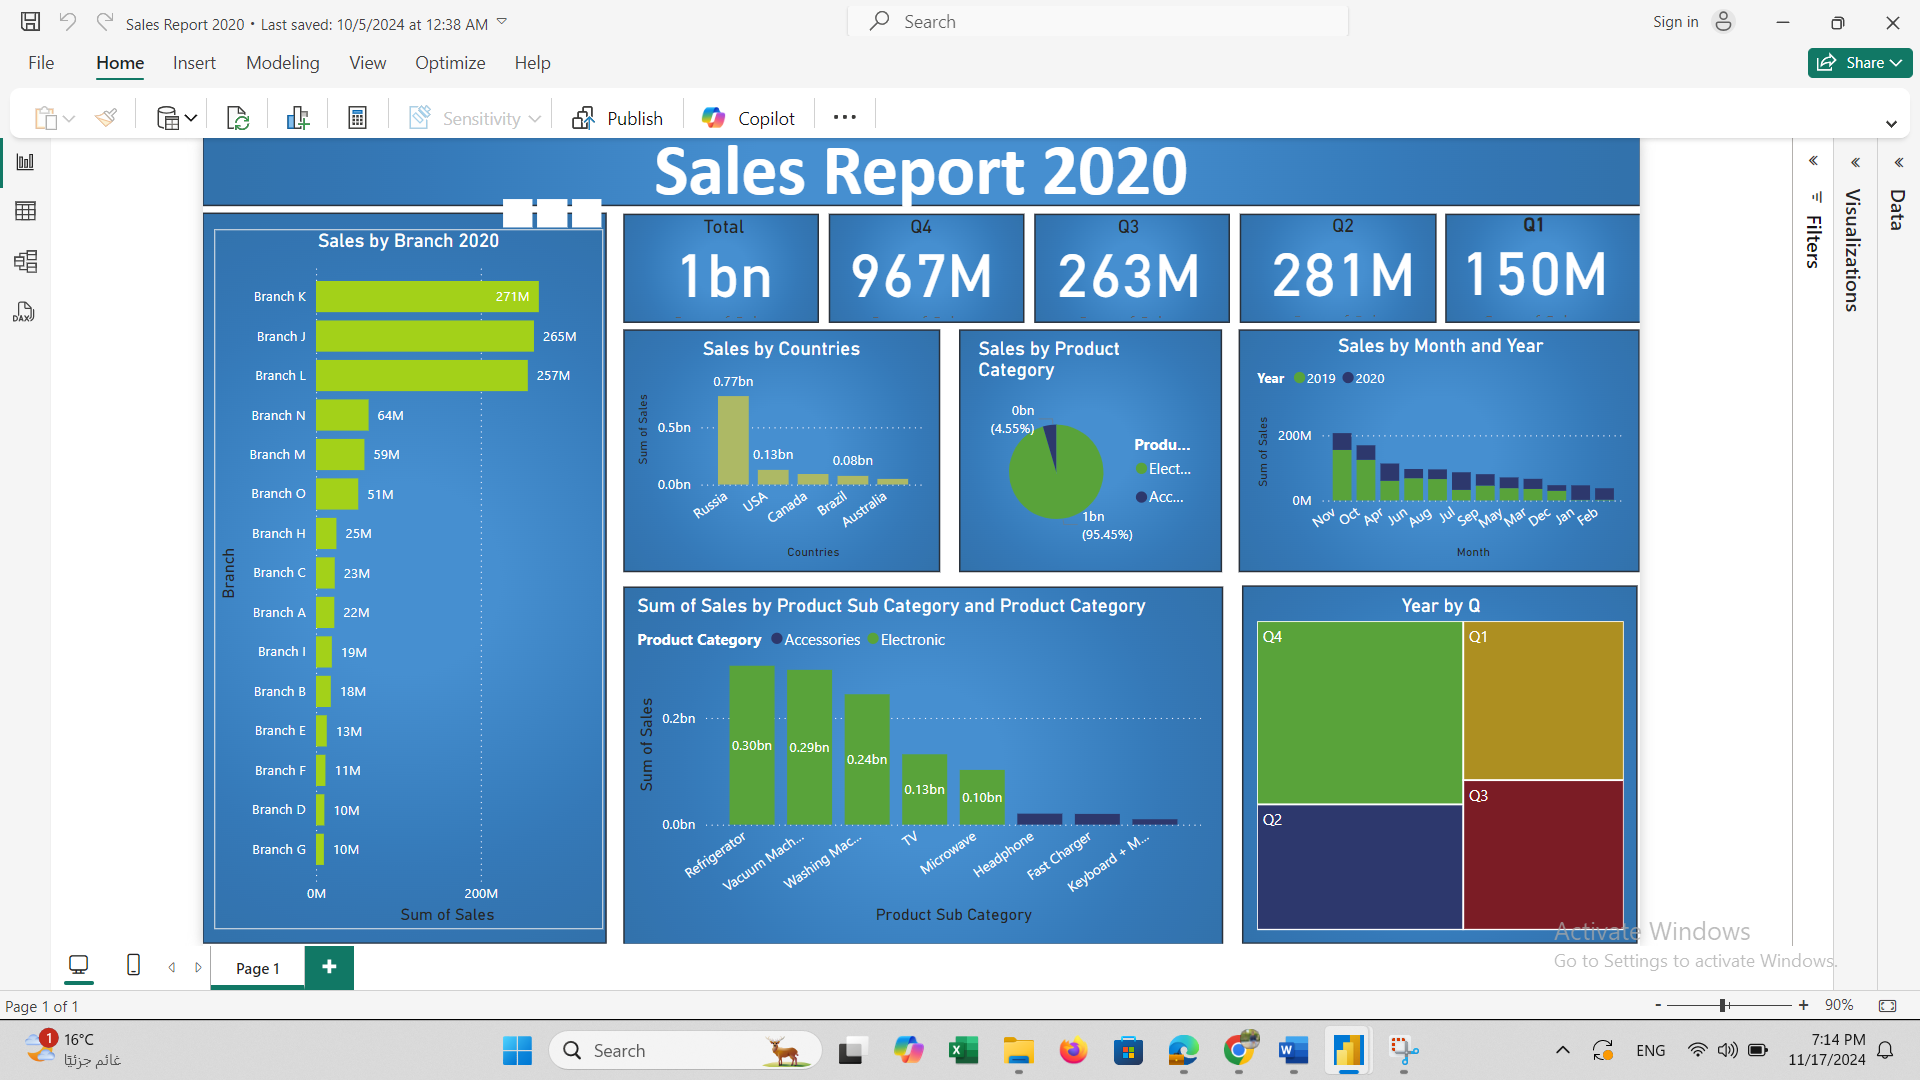

The page's visual inventory and layout, read from the dashboard file:
{"tool":"powerbi","page":{"name":"Page 1","canvas":[1280,720],"ordinal":0},"visuals":[{"type":"barChart","title":" Sales by Branch 2020","fields":{"Y":["Sum(Table15.Sales)"],"Category":["Table15.Branch"]},"box":[9.6,80.8,346.1,623.5],"z":0},{"type":"treemap","title":" Year by Q","fields":{"Group":["Table15.Q"],"Values":["Sum(Table15.Year)"]},"box":[933.5,406.4,336.5,303.9],"z":1},{"type":"columnChart","title":" Sales by Month and Year","fields":{"Category":["Table15.Month"],"Y":["Sum(Table15.Sales)"],"Series":["Table15.Year"]},"box":[933.5,174.9,336.5,205],"z":2},{"type":"pieChart","title":" Sales by Product Category","fields":{"Category":["Table15.Product Category"],"Y":["Sum(Table15.Sales)"]},"box":[686.2,177.3,208.6,202.6],"z":3},{"type":"columnChart","title":" Sales by Countries","fields":{"Category":["Table15.Countries"],"Y":["Sum(Table15.Sales)"]},"box":[382.3,177.3,266.5,202.6],"z":4},{"type":"columnChart","fields":{"Y":["Sum(Table15.Sales)"],"Category":["Table15.Product Sub Category"],"Series":["Table15.Product Category"]},"box":[382.3,406.4,512.6,297.9],"z":5},{"type":"card","title":"Q1","fields":{"Values":["Sum(Table15.Sales)"]},"box":[1101.9,67.2,167.4,97.4],"z":7},{"type":"card","title":"Q2","fields":{"Values":["Sum(Table15.Sales)"]},"box":[933.5,67.5,162.8,96.5],"z":8},{"type":"card","title":"Q3","fields":{"Values":["Sum(Table15.Sales)"]},"box":[743.7,68.6,161.9,96.1],"z":11},{"type":"card","title":"Q4","fields":{"Values":["Sum(Table15.Sales)"]},"box":[558.5,68.6,161.9,96.1],"z":12},{"type":"card","title":"Total","fields":{"Values":["Sum(Table15.Sales)"]},"box":[382.8,68.6,161.9,96.1],"z":13}]}

Visuals, with their boxes on the page's 1280x720 design canvas (x1, y1, x2, y2). These are canvas units, not pixel positions in the 1920x1080 screenshot, which may show the page scaled, cropped or inside an application window:
" Sales by Branch 2020" barChart: region(10, 81, 356, 704)
" Year by Q" treemap: region(934, 406, 1270, 710)
" Sales by Month and Year" columnChart: region(934, 175, 1270, 380)
" Sales by Product Category" pieChart: region(686, 177, 895, 380)
" Sales by Countries" columnChart: region(382, 177, 649, 380)
columnChart - Sum(Table15.Sales) x Table15.Product Sub Category: region(382, 406, 895, 704)
"Q1" card: region(1102, 67, 1269, 165)
"Q2" card: region(934, 68, 1096, 164)
"Q3" card: region(744, 69, 906, 165)
"Q4" card: region(558, 69, 720, 165)
"Total" card: region(383, 69, 545, 165)
